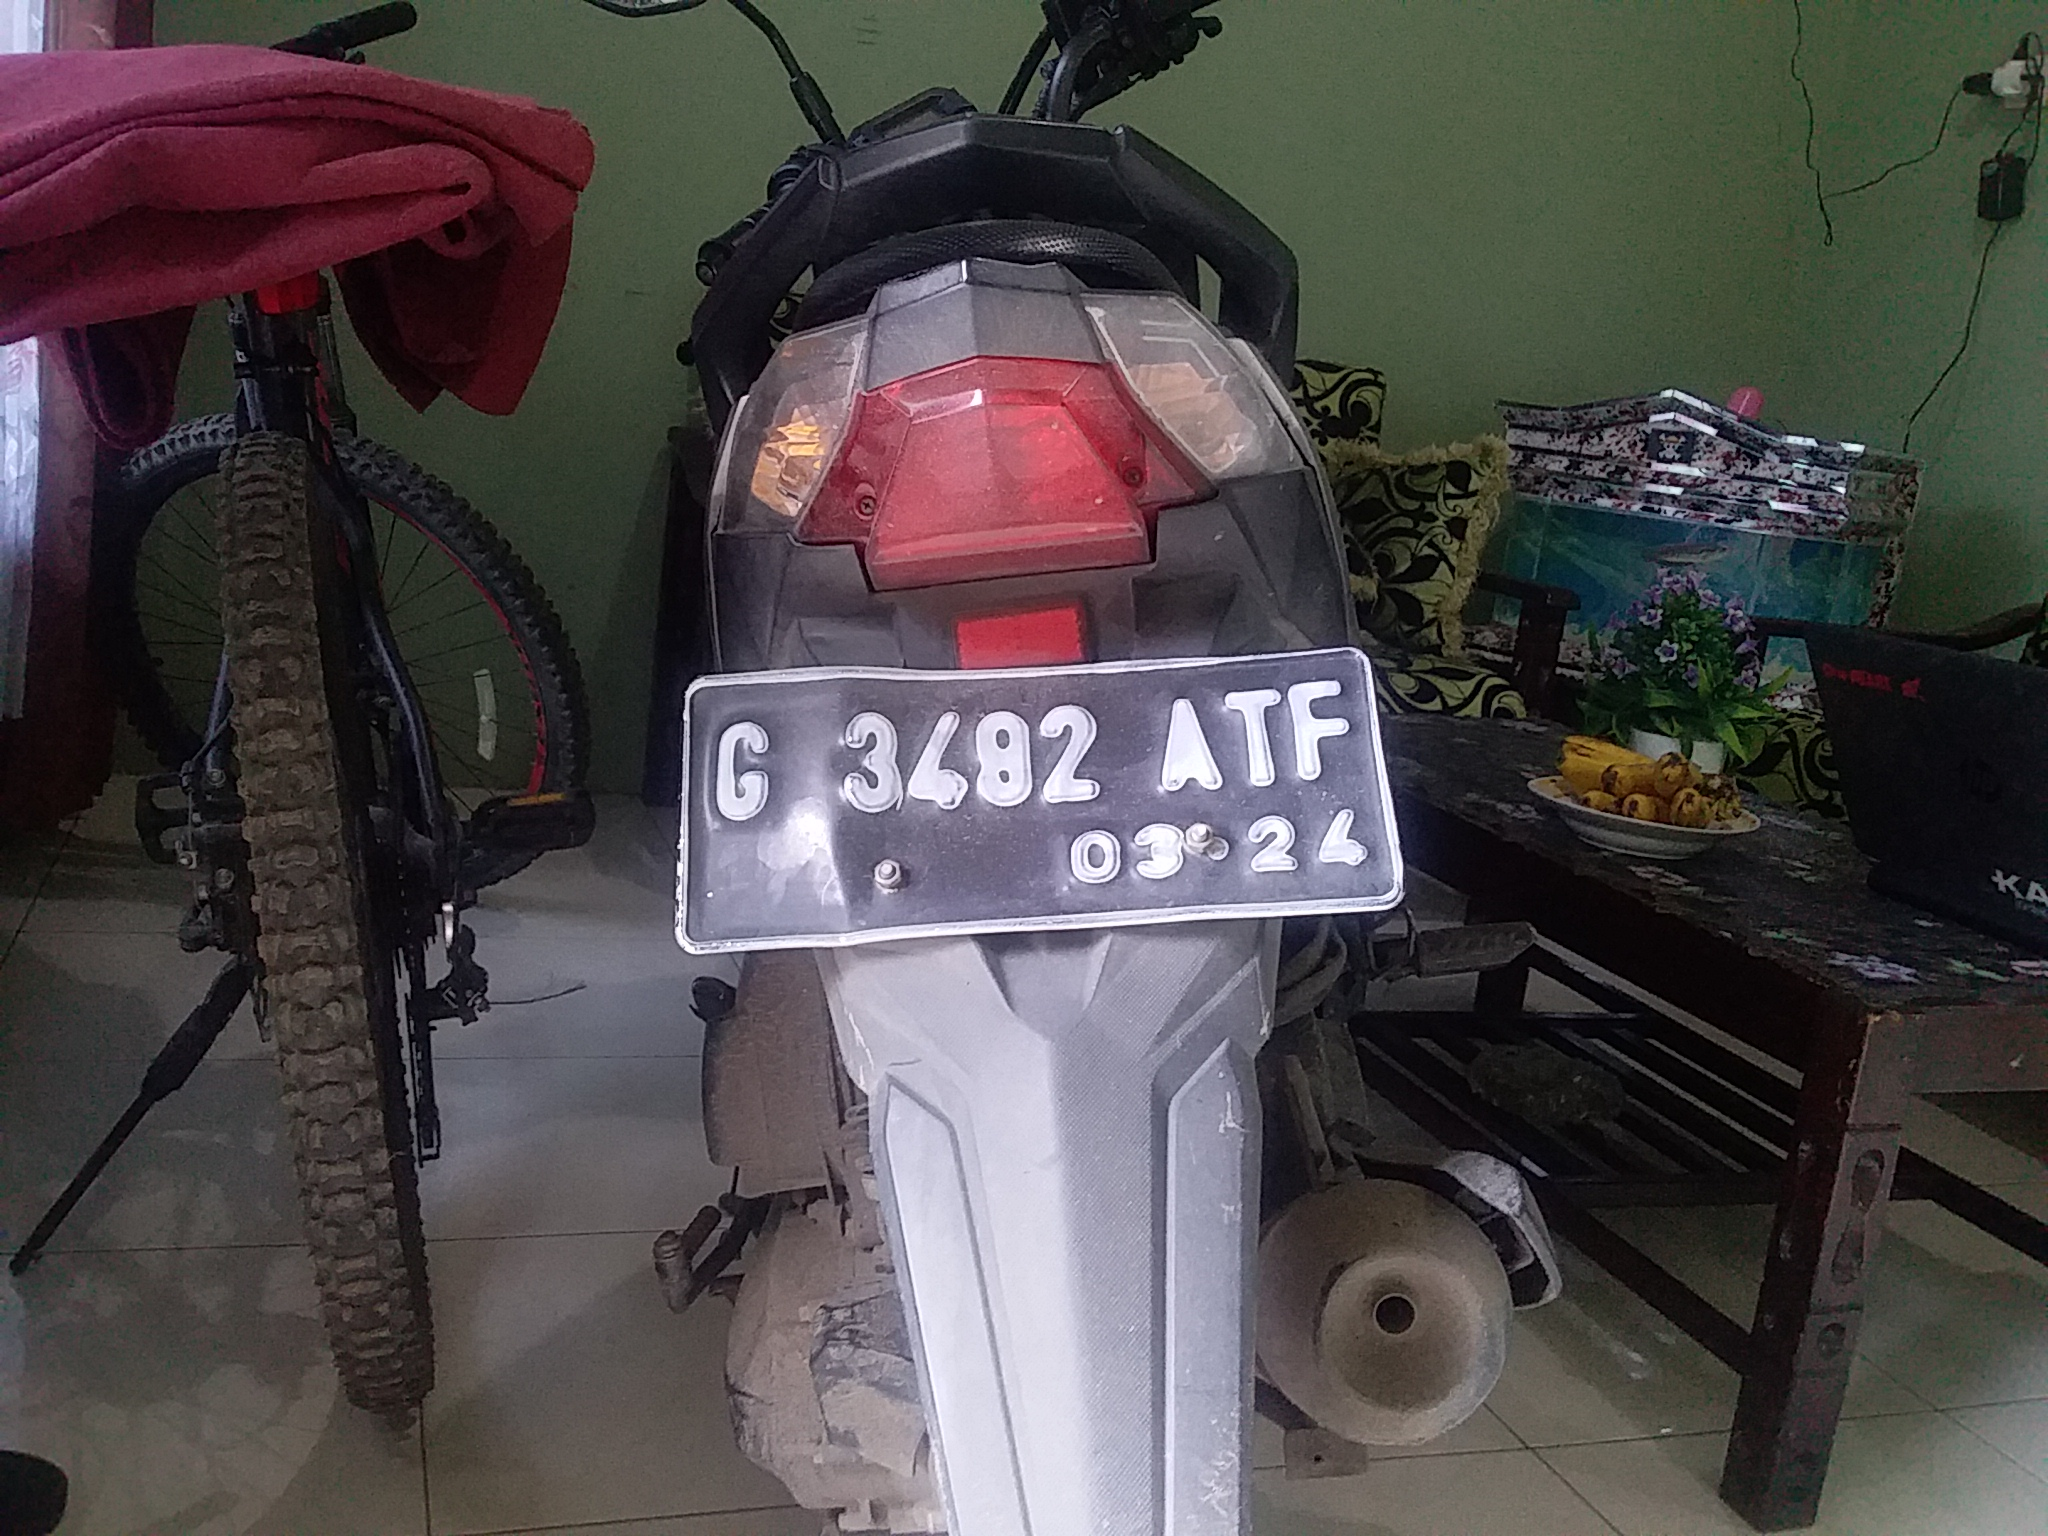plat_nomor: (627, 631, 1445, 978)
